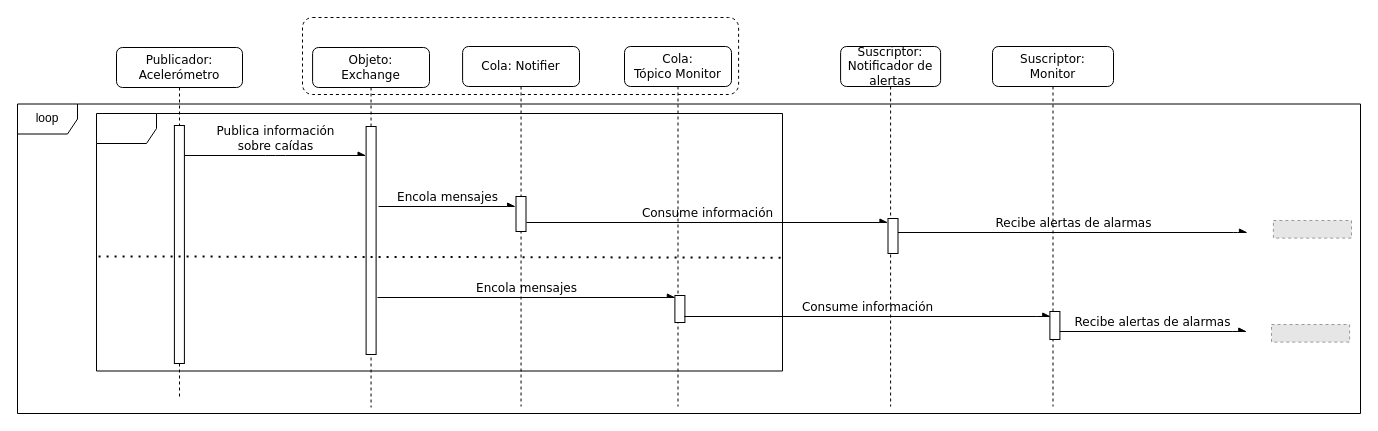
The diagram is 1378 pixels wide and 431 high, and some of its shapes have lost their labels. Grey dashed boxes stand in for pictures. The shapes that lost their labels are listed below. From the top down, each one's box as (x1, y1, x2, y2) in pixels, then its label:
(302, 16, 739, 94): Distribuidor de mensajes
(96, 112, 782, 371): par
